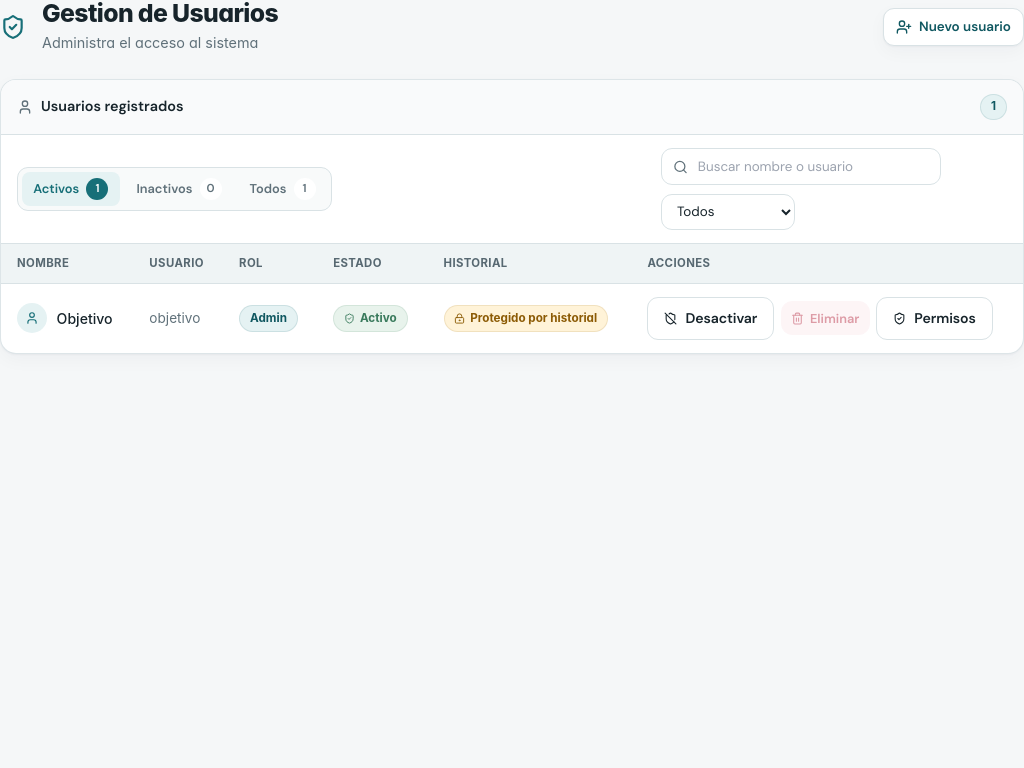
Test: auditoria visible únicamente para admin: admin
Click the button titled "Gestionar permisos" at (935, 318), box [876,297,993,340]
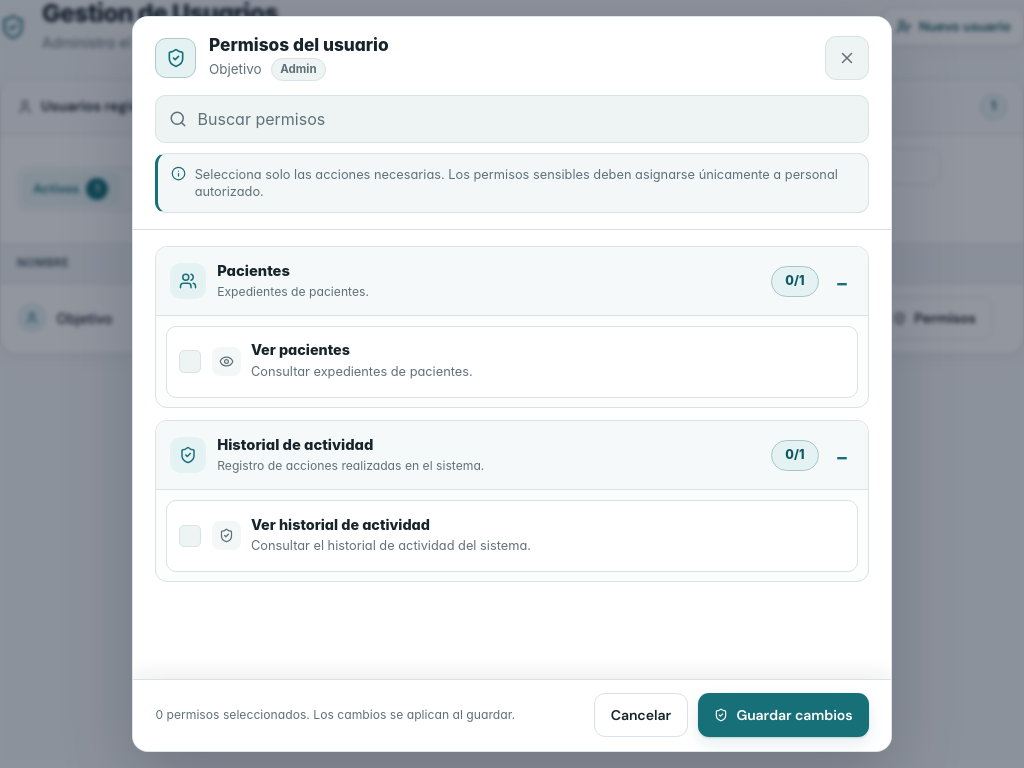
Expected: the text "Ver pacientes" is shown, [251,342,350,358]
